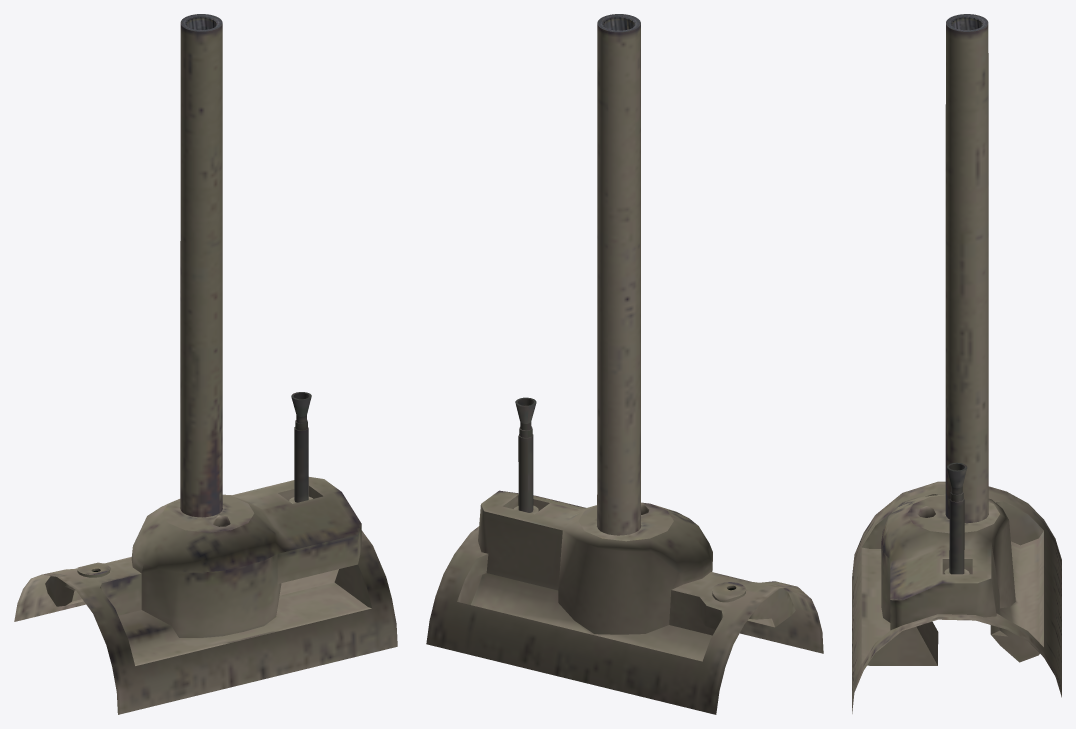
The model's file is Gun_05.glb.
3 renders of one model, left to right at view 1: azimuth 30°, elevation 25°; view 2: azimuth 150°, elevation 25°; view 3: azimuth 270°, elevation 25°, orthographic. The views are drawn at different scales.
Parts seen in each view (by area): view 1: set_0_group_0; view 2: set_0_group_0; view 3: set_0_group_0.
Boxes of the visible parts, bbox=[...] form: set_0_group_0: bbox=[14, 14, 397, 714]; set_0_group_0: bbox=[426, 14, 823, 714]; set_0_group_0: bbox=[852, 14, 1061, 713].
Size of the model in its own units: 0.784 by 1.65 by 0.5032.
1 material, 1 textured.
